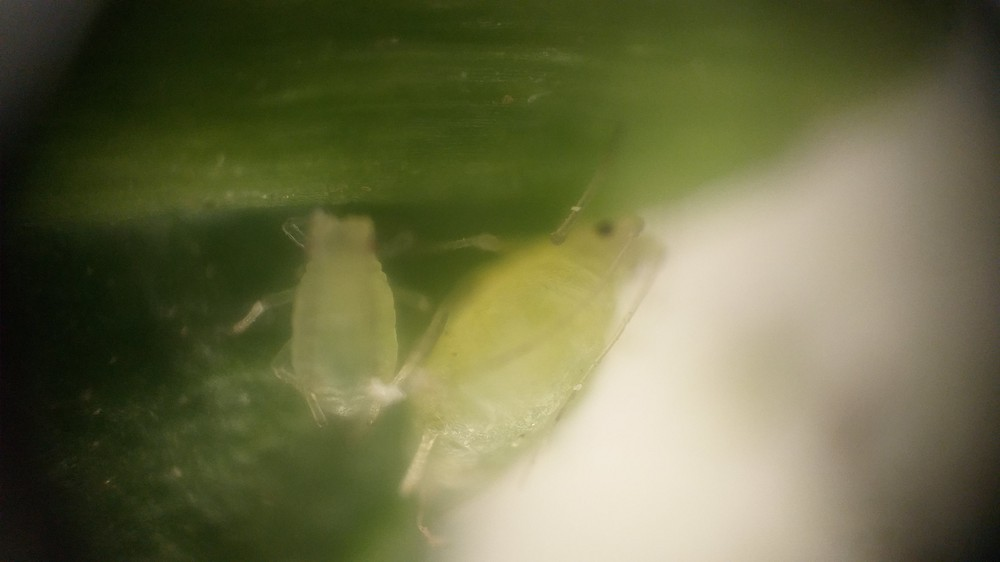Pulgon: (410, 155, 681, 541), (242, 194, 443, 441)
